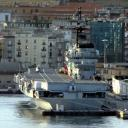Portanaves: (15, 6, 111, 111)
